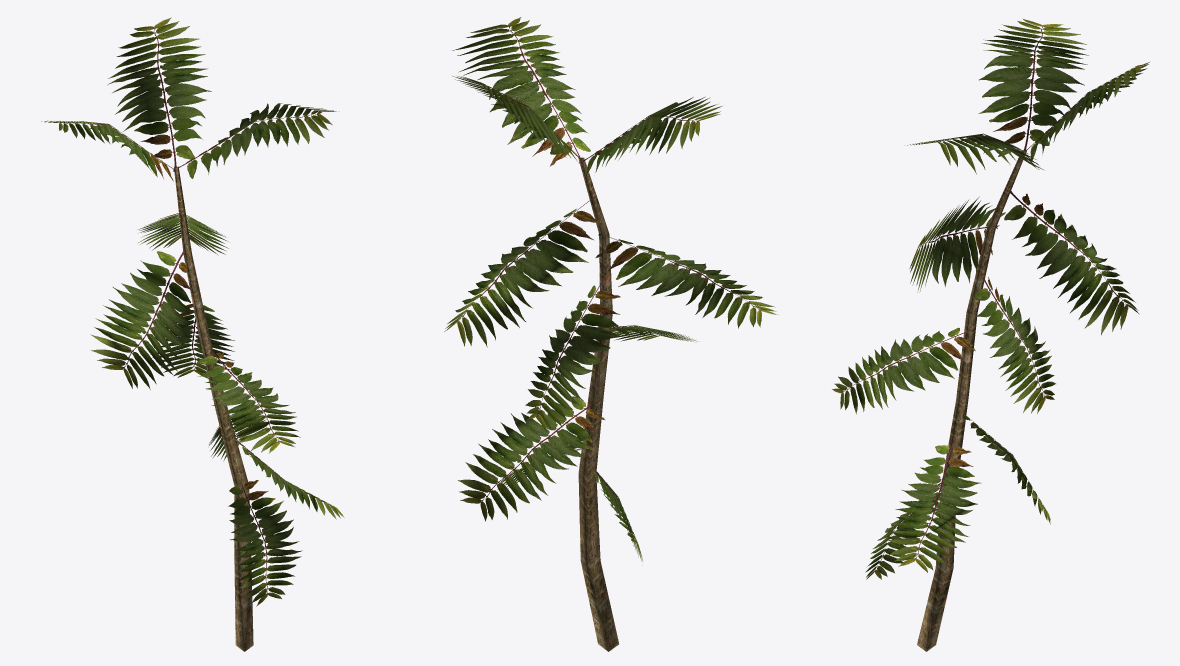
The model's file is ADDON_PLANTS_THINTREE_01_200P.glb.
3 renders of one model, left to right at view 1: azimuth 30°, elevation 25°; view 2: azimuth 150°, elevation 25°; view 3: azimuth 270°, elevation 25°, orthographic. The views are drawn at different scales.
Parts seen in each view (by area): view 1: Mesh; view 2: Mesh; view 3: Mesh.
Boxes of the visible parts, x1,y1,x2,y2 form: Mesh: (41,17,344,651); Mesh: (444,17,778,651); Mesh: (832,19,1149,651).
Bounding box in the file's own units: 5.73 × 9.4 × 4.9.
2 materials, 2 textured.
